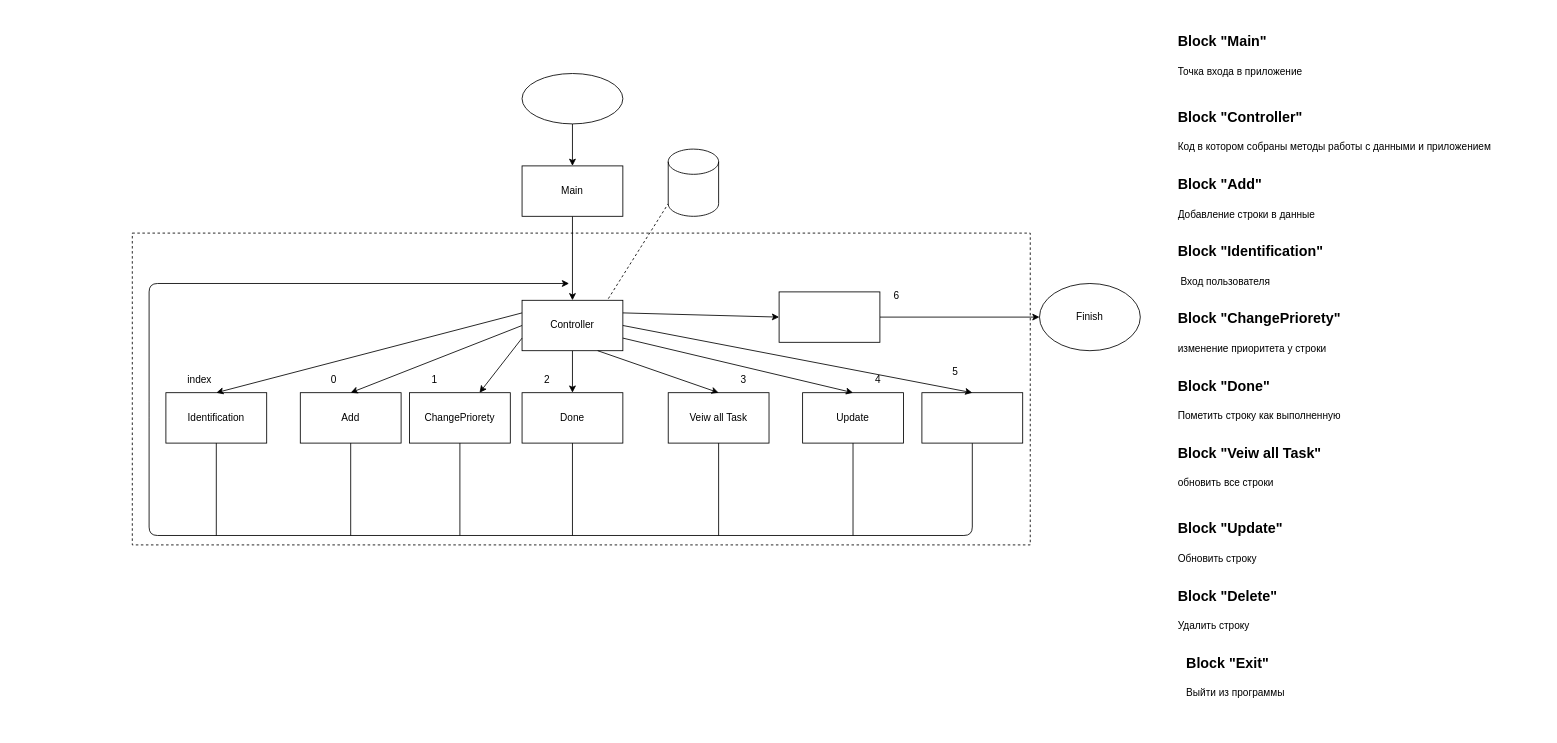
Image size: 1557x743. Some labels were removed from this diagram. Here are the shapes that lost their labels. From the top down, the centre of each, then its label:
the point at 572,98: Start
the point at 829,316: Exit
the point at 972,417: Delete
